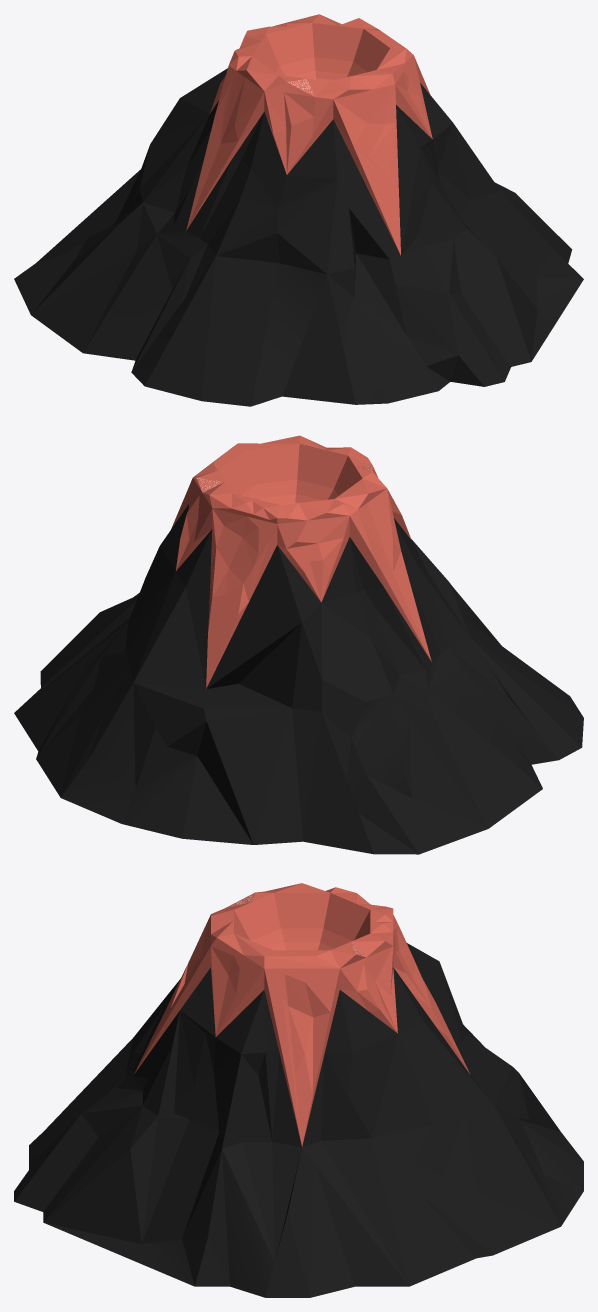
File: Volcano More Poly.dae
3 renders of one model, top to bottom at view 1: azimuth 30°, elevation 25°; view 2: azimuth 150°, elevation 25°; view 3: azimuth 270°, elevation 25°, orthographic. The views are drawn at different scales.
Parts seen in each view (by area): view 1: SketchUp (×2); view 2: SketchUp (×2); view 3: SketchUp (×2).
Boxes of the visible parts, bbox=[...] form: SketchUp (×2): bbox=[14, 14, 583, 406]; SketchUp (×2): bbox=[14, 435, 583, 854]; SketchUp (×2): bbox=[14, 883, 583, 1297].
Size of the model in its own units: 184 by 182 by 89.97.
